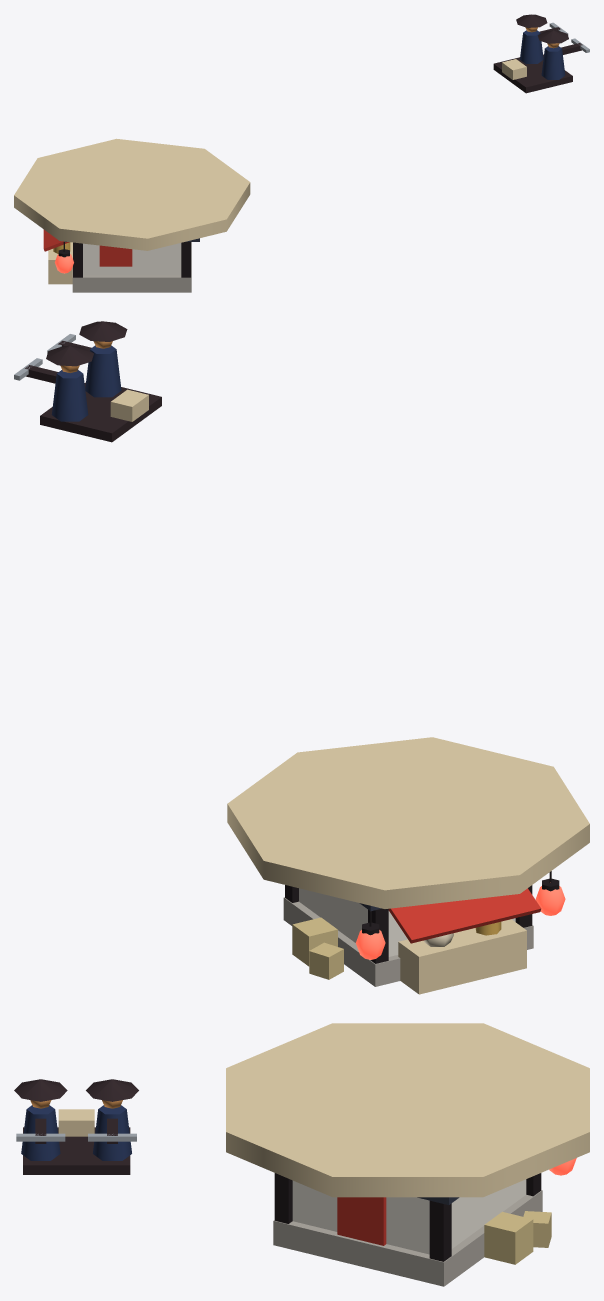
The model's file is base_merchant_weapon_1.glb.
3 views of the same model, one above another, from view 1: azimuth 30°, elevation 25°; view 2: azimuth 150°, elevation 25°; view 3: azimuth 270°, elevation 25° (orthographic). The views are drawn at different scales.
Visible parts, largest first — view 1: tower_slot_1_plate, tower_slot_1_house, tower_slot_1_plinth, weapon_mount, crossbowman_r_body, tower_slot_1_banner, crossbowman_l_body, tower_slot_1_counter, bolt_crate, tower_slot_1_post_3; view 2: tower_slot_1_plate, tower_slot_1_counter, tower_slot_1_awning, weapon_mount, tower_slot_1_house, tower_slot_1_plinth, crossbowman_l_body, crossbowman_r_body, tower_slot_1_crate_0, tower_slot_1_crate_1, bolt_crate; view 3: tower_slot_1_plate, tower_slot_1_plinth, tower_slot_1_house, weapon_mount, tower_slot_1_crate_0, tower_slot_1_door, crossbowman_r_body, crossbowman_l_body, tower_slot_1_post_2, bolt_crate, crossbowman_l_jingasa, crossbowman_r_jingasa (+4 smaller).
Boxes of the visible parts, left/top/right/bottom form: tower_slot_1_plate: left=14, top=138, right=250, bottom=250; tower_slot_1_house: left=83, top=243, right=181, bottom=275; tower_slot_1_plinth: left=72, top=242, right=191, bottom=292; weapon_mount: left=493, top=54, right=572, bottom=93; crossbowman_r_body: left=541, top=46, right=565, bottom=79; tower_slot_1_banner: left=99, top=245, right=132, bottom=266; crossbowman_l_body: left=520, top=30, right=543, bottom=63; tower_slot_1_counter: left=48, top=242, right=72, bottom=284; bolt_crate: left=502, top=59, right=526, bottom=79; tower_slot_1_post_3: left=181, top=242, right=191, bottom=277; tower_slot_1_plate: left=227, top=737, right=589, bottom=908; tower_slot_1_counter: left=398, top=919, right=526, bottom=994; tower_slot_1_awning: left=388, top=888, right=541, bottom=943; weapon_mount: left=40, top=382, right=161, bottom=442; tower_slot_1_house: left=299, top=888, right=515, bottom=956; tower_slot_1_plinth: left=283, top=897, right=533, bottom=986; crossbowman_l_body: left=51, top=370, right=88, bottom=421; crossbowman_r_body: left=85, top=345, right=121, bottom=397; tower_slot_1_crate_0: left=292, top=917, right=337, bottom=966; tower_slot_1_crate_1: left=309, top=942, right=343, bottom=979; bolt_crate: left=110, top=389, right=148, bottom=421; tower_slot_1_plate: left=226, top=1023, right=589, bottom=1197; tower_slot_1_plinth: left=273, top=1190, right=542, bottom=1286; tower_slot_1_house: left=292, top=1179, right=526, bottom=1254; weapon_mount: left=23, top=1127, right=130, bottom=1174; tower_slot_1_crate_0: left=484, top=1211, right=533, bottom=1264; tower_slot_1_door: left=337, top=1197, right=386, bottom=1245; crossbowman_r_body: left=21, top=1105, right=60, bottom=1160; crossbowman_l_body: left=93, top=1105, right=131, bottom=1160; tower_slot_1_post_2: left=429, top=1200, right=451, bottom=1261; bolt_crate: left=58, top=1109, right=94, bottom=1136; crossbowman_l_jingasa: left=86, top=1079, right=138, bottom=1101; crossbowman_r_jingasa: left=14, top=1079, right=67, bottom=1101.
Size of the model in its own units: 0.9263 by 0.494 by 0.6433.
